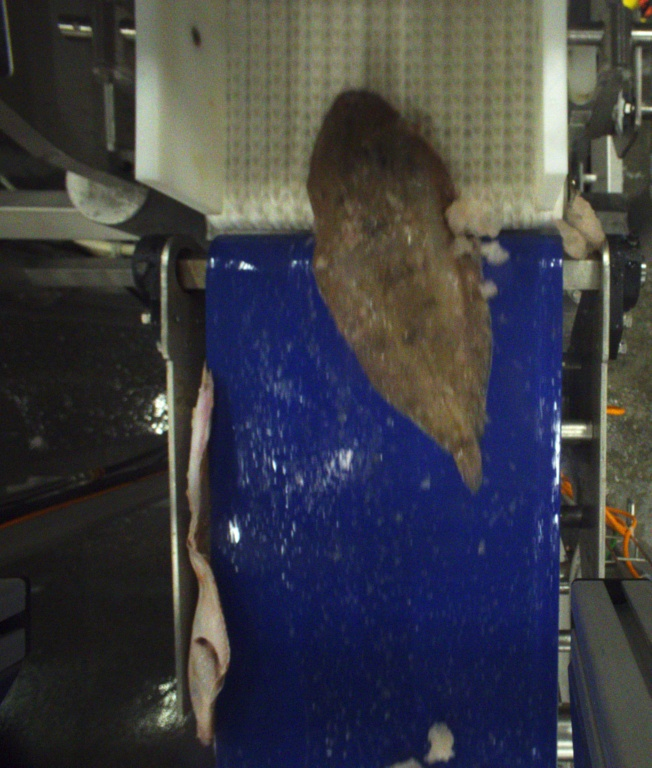SOL: (303, 84, 507, 494)
